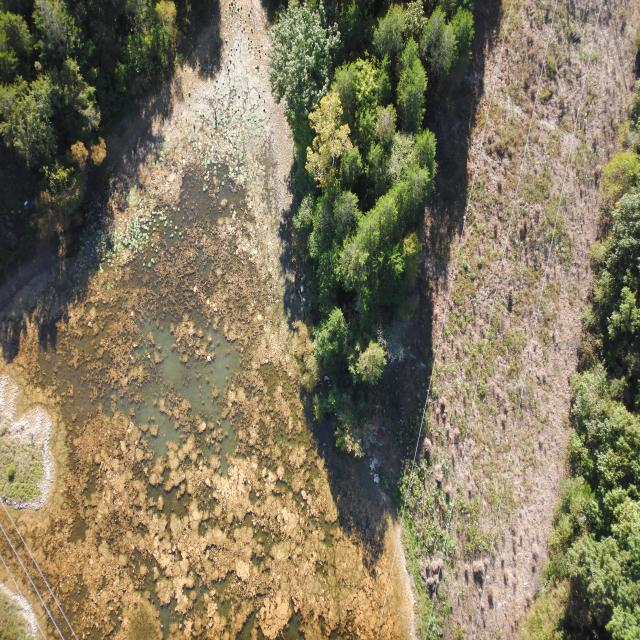Area of Interest: (290, 10, 482, 430), (2, 8, 197, 248), (557, 148, 633, 610)
